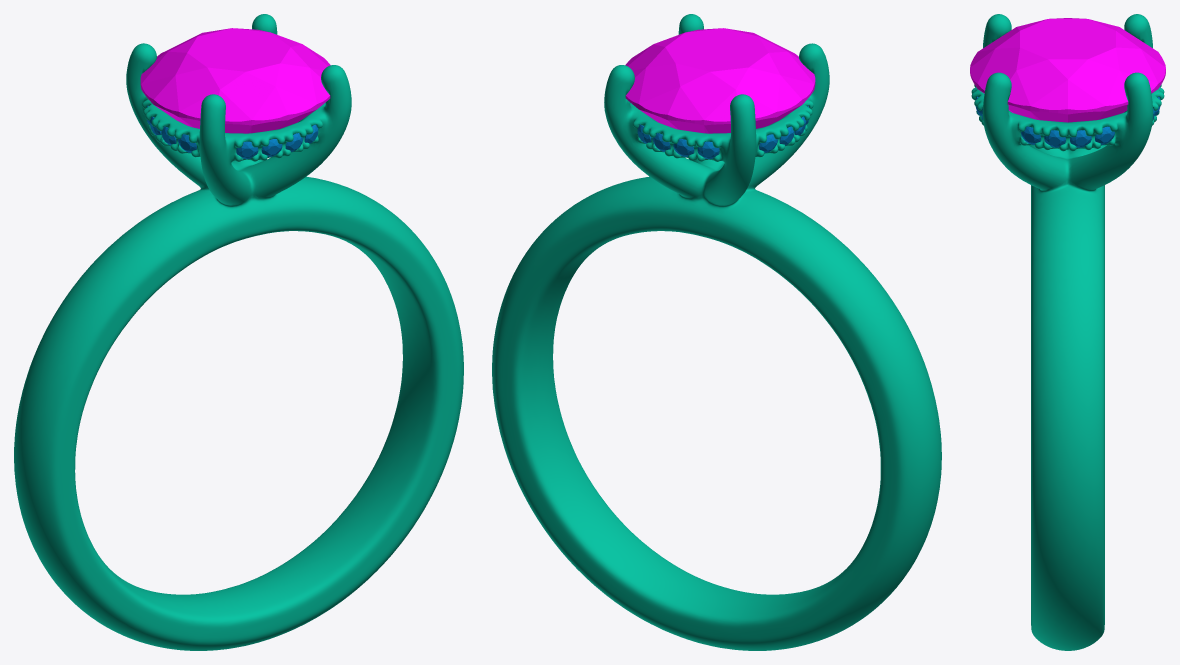
Rendered from BE1D4166_RD_200ct_RENDER.glb.
The picture shows the model from 3 angles, left to right: view 1: azimuth 30°, elevation 25°; view 2: azimuth 150°, elevation 25°; view 3: azimuth 270°, elevation 25°; orthographic projection.
Parts seen in each view (by area): view 1: Metal 01, CS_Diamond_Round; view 2: Metal 01, CS_Diamond_Round; view 3: Metal 01, CS_Diamond_Round.
Part boxes in pixels (bbox=[...]): Metal 01: bbox=[14, 14, 463, 650]; CS_Diamond_Round: bbox=[140, 28, 330, 133]; Metal 01: bbox=[492, 14, 941, 650]; CS_Diamond_Round: bbox=[625, 28, 815, 133]; Metal 01: bbox=[971, 14, 1164, 650]; CS_Diamond_Round: bbox=[970, 18, 1165, 122].
Bounding box in the file's own units: 20.49 × 26.52 × 8.
